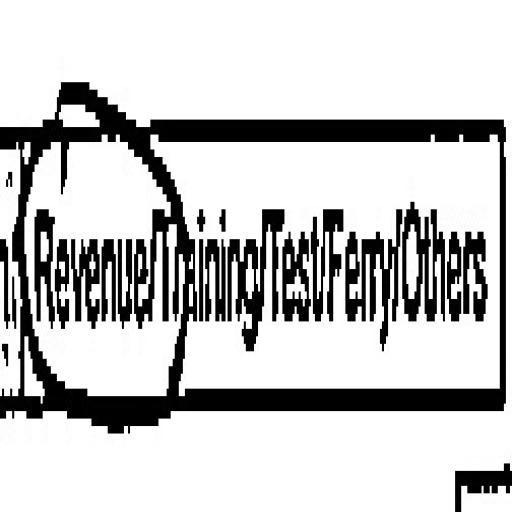check: (14, 26, 154, 512)
